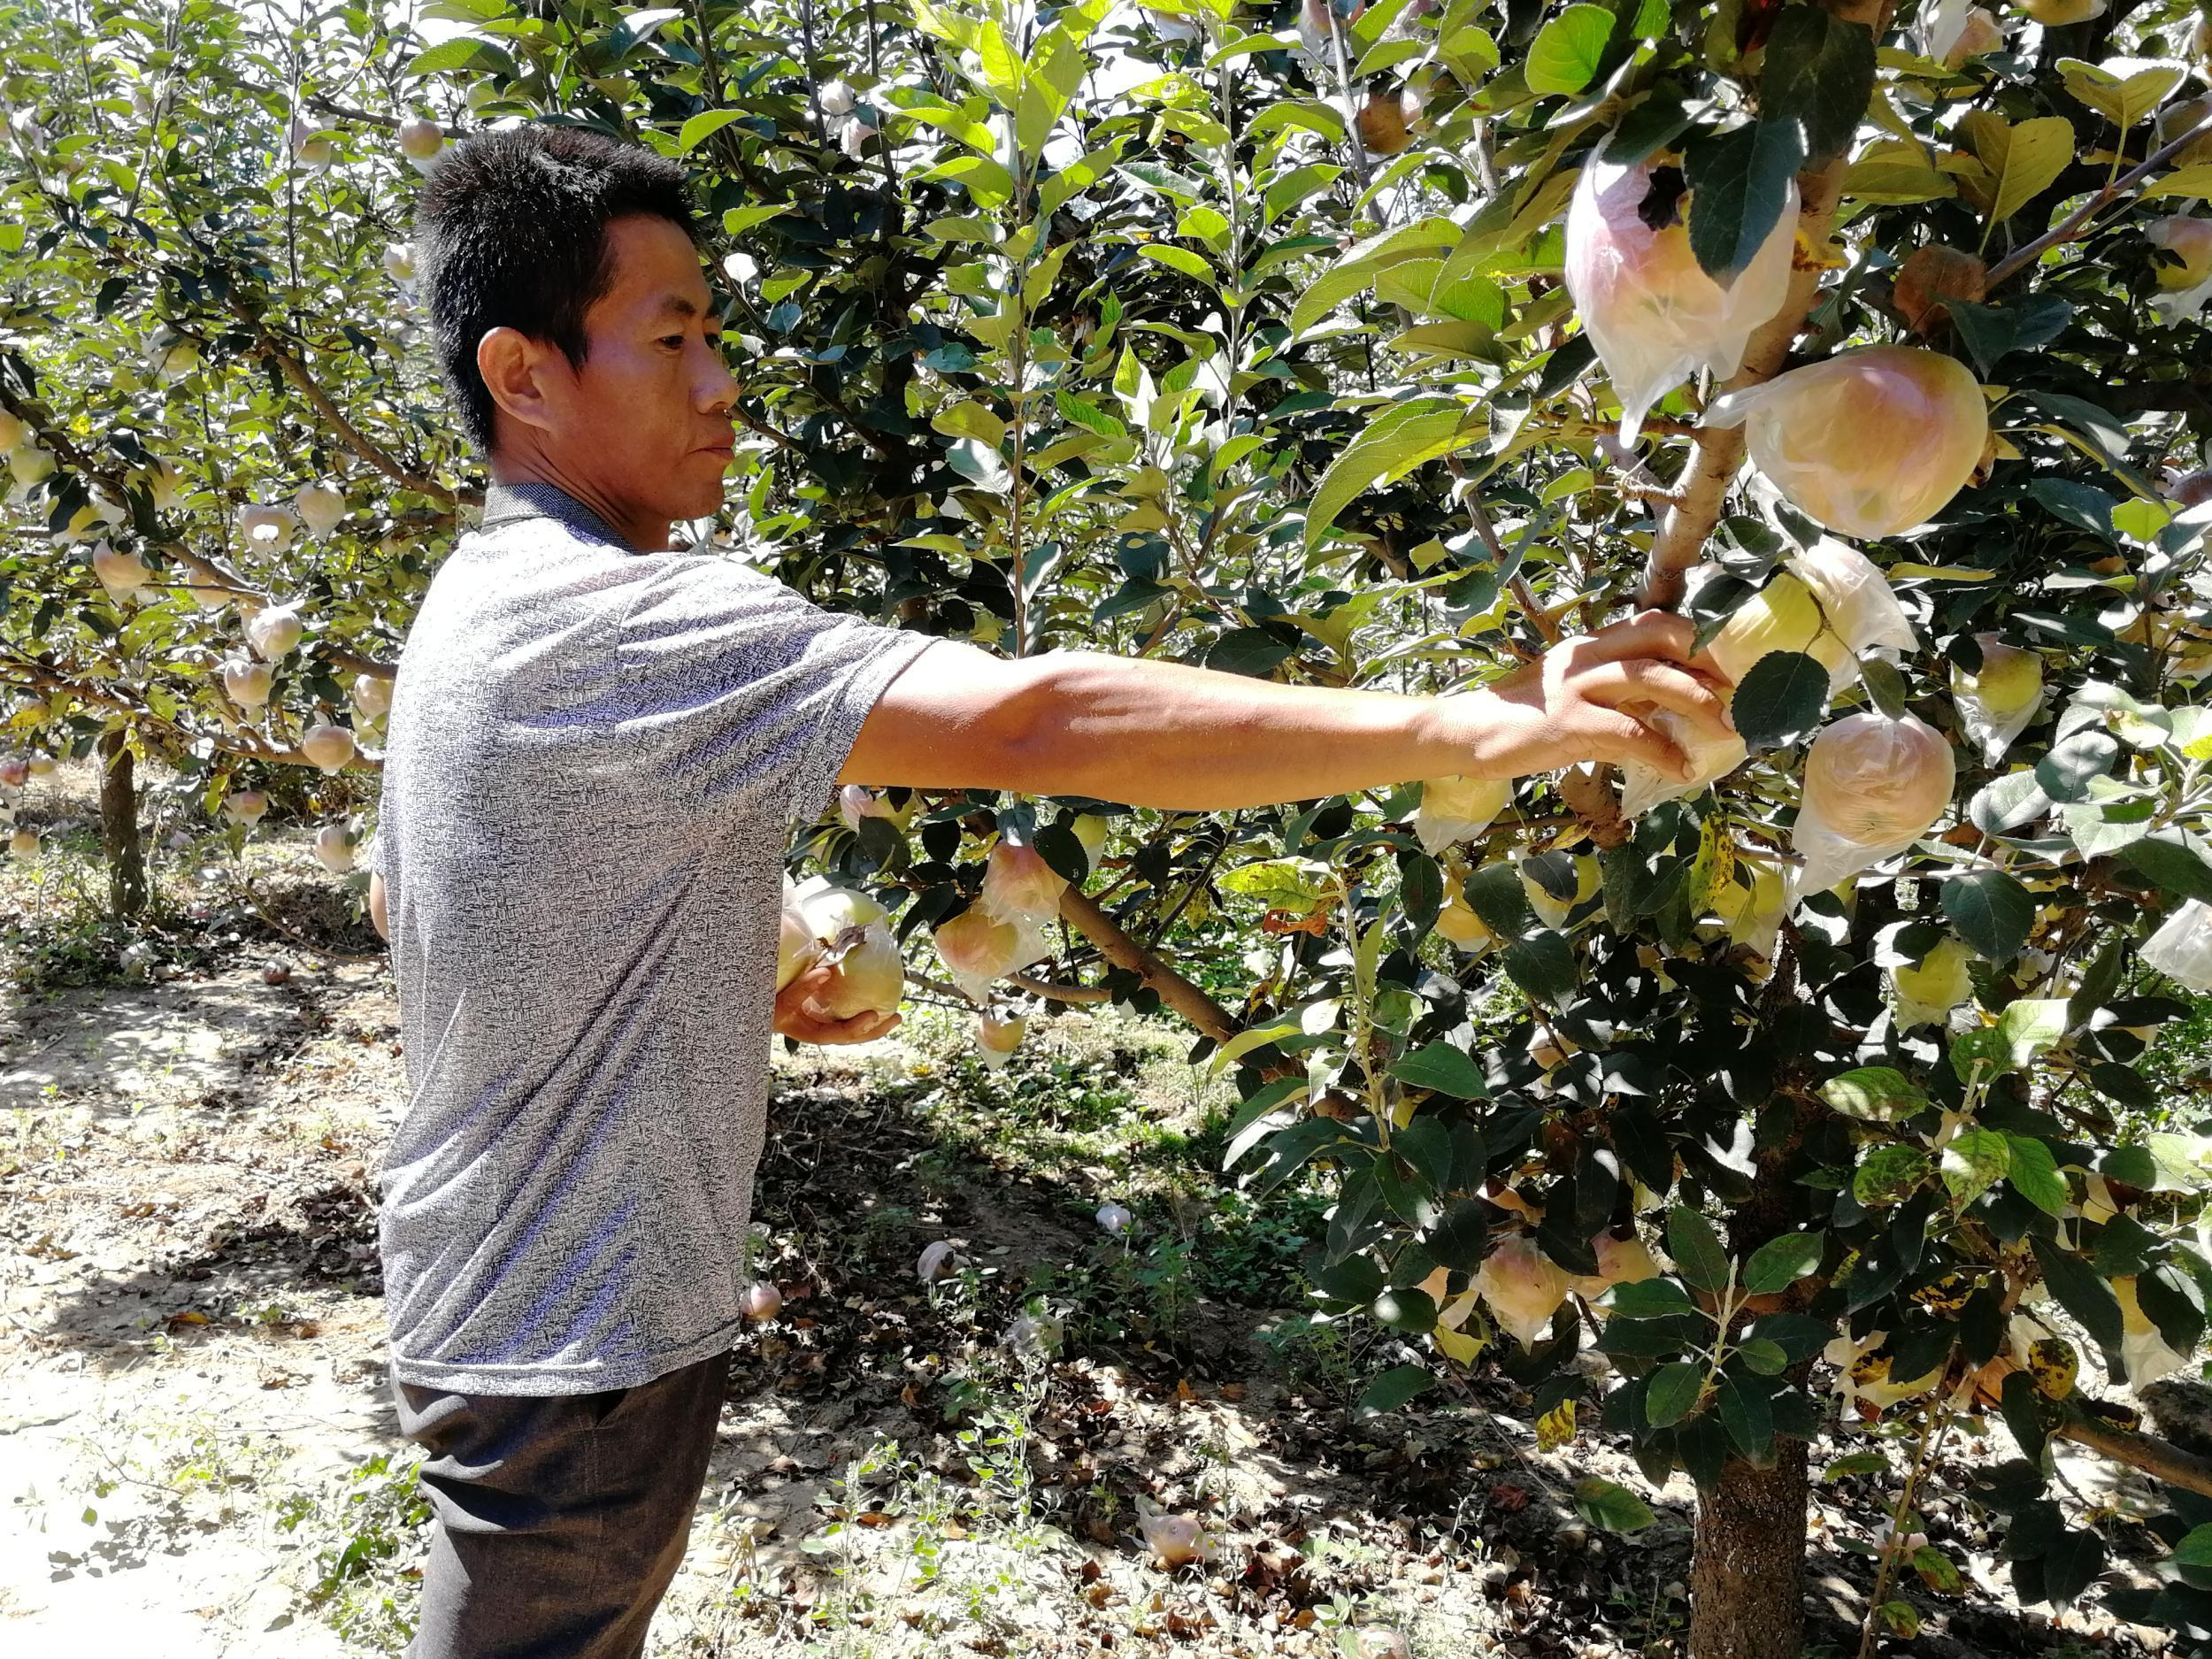apple: (1738, 340, 1993, 538)
